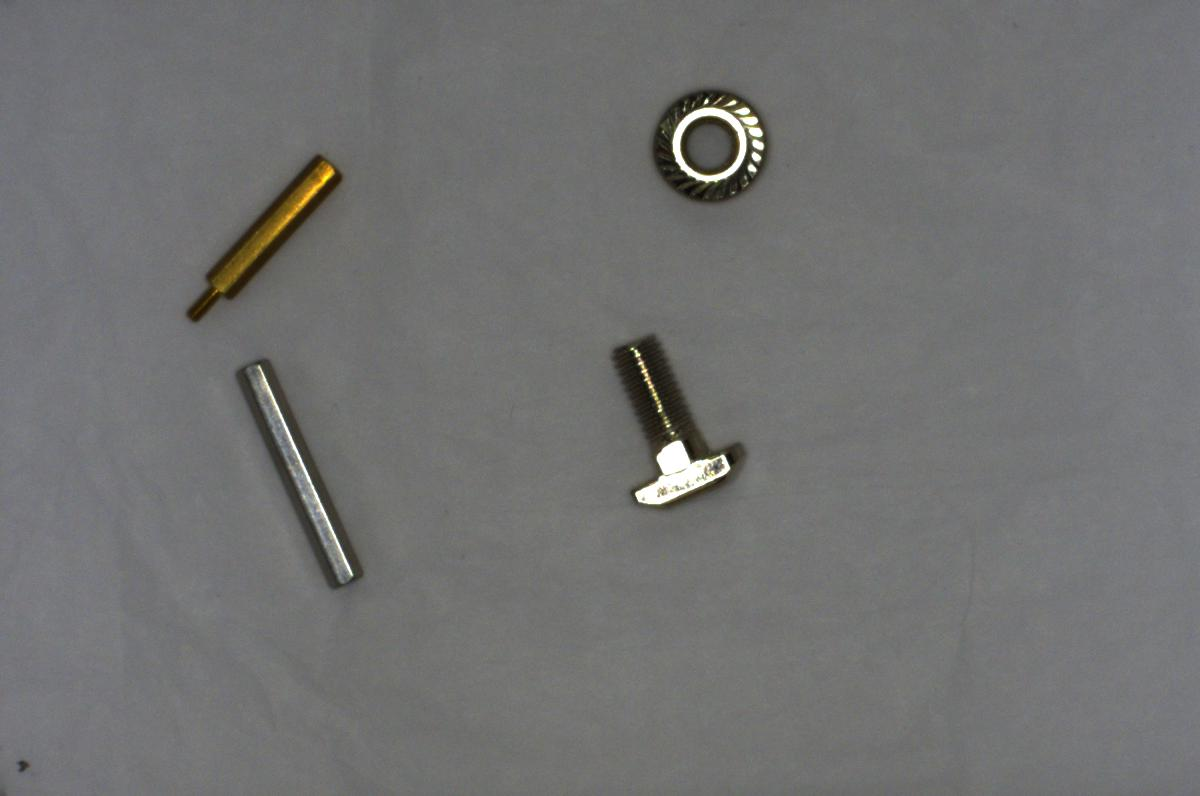Double hexagonal column: (221, 352, 370, 599)
Flange nut: (646, 80, 774, 205)
Hexagon pillar: (180, 143, 338, 327)
T-shaped screw: (592, 326, 755, 514)
